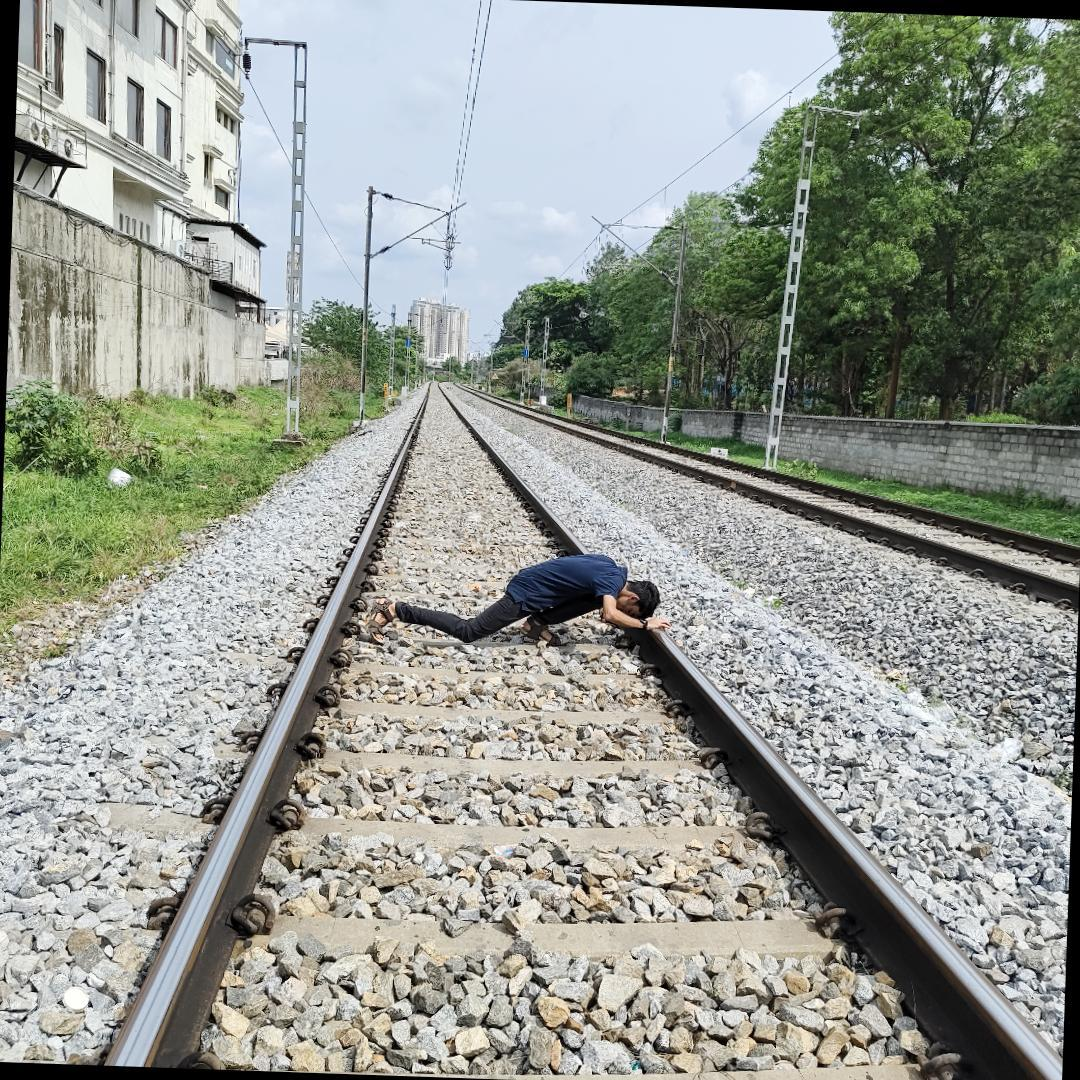sleeping: (345, 544, 696, 662)
track: (72, 379, 1059, 1080)
